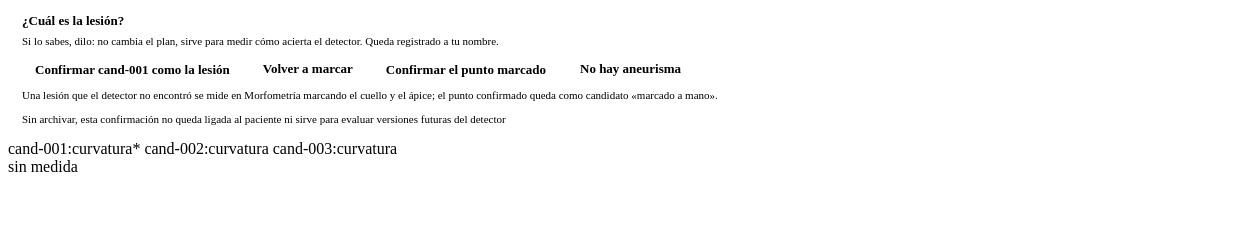
Test case: confirmar › manda el punto marcado a mano en mm
What coordinates should you click on to do the following:
click the button "Confirmar el punto marcado"
I would click on:
 (466, 70)
Its box is top-left (373, 60), bottom-right (559, 78).
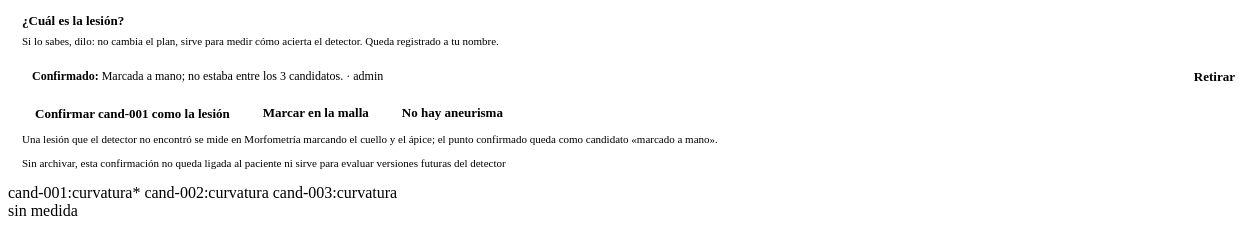
Expected: the text "no estaba entre los 3 candidatos" is shown, top-left (102, 69), bottom-right (343, 83)
